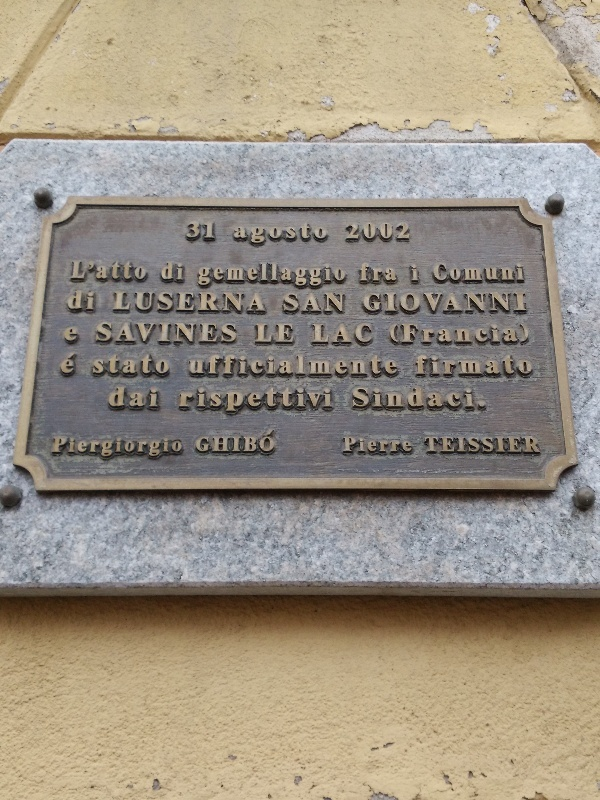text: (209, 254, 224, 289), (225, 254, 240, 289), (241, 254, 256, 289), (257, 254, 272, 289), (273, 254, 288, 289), (289, 254, 304, 289), (305, 254, 320, 289), (321, 254, 336, 289), (193, 387, 208, 415), (209, 387, 224, 415), (225, 387, 240, 415), (241, 387, 256, 415), (257, 387, 272, 415), (273, 387, 288, 415), (289, 387, 304, 415), (305, 387, 320, 415), (209, 427, 224, 454), (225, 427, 240, 454), (241, 427, 256, 454), (257, 427, 272, 454), (193, 218, 208, 243), (289, 291, 304, 316), (305, 291, 320, 316), (321, 291, 336, 316), (353, 386, 368, 411), (369, 386, 384, 411), (385, 386, 400, 411), (401, 386, 416, 411), (417, 386, 432, 411), (433, 386, 448, 411), (449, 386, 464, 411), (465, 386, 480, 411), (321, 387, 334, 415), (241, 224, 256, 248), (257, 224, 272, 248), (273, 224, 288, 248), (289, 224, 304, 248), (305, 224, 320, 248), (129, 290, 144, 314), (145, 290, 160, 314), (161, 290, 176, 314), (177, 290, 192, 314), (193, 290, 208, 314), (209, 290, 224, 314), (225, 290, 240, 314), (241, 290, 256, 314), (369, 291, 384, 315), (385, 291, 400, 315), (401, 291, 416, 315), (417, 291, 432, 315), (433, 291, 448, 315), (449, 291, 464, 315), (465, 291, 480, 315), (481, 291, 496, 315), (497, 291, 512, 315), (513, 291, 528, 315), (321, 323, 336, 347), (337, 323, 352, 347), (353, 323, 368, 347), (193, 353, 208, 377), (209, 353, 224, 377), (225, 353, 240, 377), (241, 353, 256, 377), (257, 353, 272, 377), (273, 353, 288, 377), (289, 353, 304, 377), (305, 353, 320, 377), (321, 353, 336, 377), (337, 353, 352, 377), (353, 353, 368, 377), (369, 353, 384, 377), (113, 385, 128, 409), (129, 385, 144, 409), (65, 435, 80, 459), (81, 435, 96, 459), (97, 435, 112, 459), (113, 435, 128, 459), (129, 435, 144, 459), (145, 435, 160, 459), (161, 435, 176, 459), (162, 259, 176, 284), (81, 260, 96, 283), (97, 260, 112, 283), (113, 260, 128, 283), (129, 260, 144, 283), (113, 322, 128, 345), (129, 322, 144, 345), (145, 322, 160, 345), (161, 322, 176, 345), (177, 322, 192, 345), (193, 322, 208, 345), (209, 322, 224, 345), (257, 322, 272, 345), (273, 322, 288, 345), (417, 354, 432, 377), (433, 354, 448, 377), (449, 354, 464, 377), (465, 354, 480, 377), (481, 354, 496, 377), (497, 354, 512, 377), (513, 354, 528, 377), (114, 290, 128, 314), (145, 385, 159, 409), (180, 387, 192, 415), (369, 262, 384, 284), (433, 262, 448, 284), (449, 262, 464, 284), (465, 262, 480, 284), (481, 262, 496, 284), (497, 262, 512, 284), (401, 323, 416, 345), (417, 323, 432, 345), (433, 323, 448, 345), (449, 323, 464, 345), (465, 323, 480, 345), (481, 323, 496, 345), (497, 323, 512, 345), (513, 323, 528, 345), (97, 354, 112, 376), (113, 354, 128, 376), (129, 354, 144, 376), (145, 354, 160, 376), (196, 427, 208, 454), (81, 289, 95, 312), (98, 322, 112, 345), (353, 222, 368, 243), (369, 222, 384, 243), (385, 222, 400, 243), (199, 254, 208, 289), (337, 254, 346, 289), (385, 353, 398, 377), (433, 435, 448, 455), (449, 435, 464, 455), (465, 435, 480, 455), (481, 435, 496, 455), (497, 435, 512, 455), (513, 435, 528, 455), (513, 262, 526, 284), (353, 435, 368, 454), (369, 435, 384, 454), (385, 435, 400, 454), (68, 289, 80, 312), (225, 322, 237, 345), (65, 351, 76, 376), (385, 262, 397, 284), (389, 323, 400, 345), (257, 290, 267, 314), (54, 435, 64, 459), (529, 435, 541, 455), (401, 435, 413, 454), (337, 291, 346, 316), (311, 323, 320, 347), (401, 222, 411, 243), (65, 326, 77, 343), (177, 259, 185, 284), (359, 262, 368, 284), (232, 224, 240, 248), (321, 224, 329, 248), (342, 435, 352, 454), (72, 260, 80, 283), (423, 435, 432, 455), (161, 354, 169, 376), (209, 218, 216, 243), (177, 435, 183, 459), (289, 322, 295, 345), (346, 222, 352, 243), (481, 386, 486, 411), (363, 291, 368, 315), (188, 218, 192, 243), (411, 264, 416, 284), (284, 291, 288, 316), (369, 323, 373, 347), (61, 351, 64, 376), (189, 353, 192, 377), (529, 354, 532, 377), (93, 354, 96, 376), (273, 427, 275, 454), (110, 385, 112, 409), (254, 322, 256, 345), (529, 323, 531, 345), (145, 260, 146, 283), (417, 264, 418, 284)
